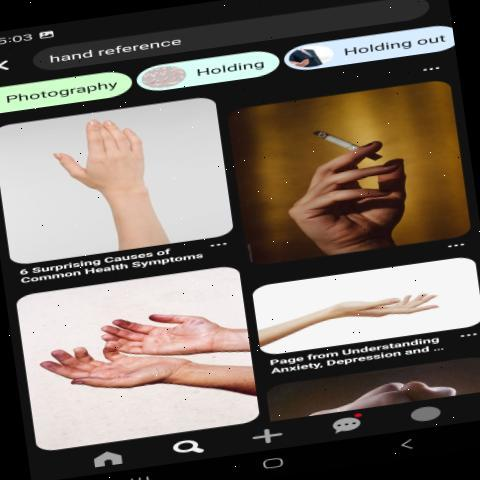Hands: (259, 133, 429, 246), (24, 344, 220, 420), (46, 114, 173, 220), (292, 266, 460, 330), (91, 296, 248, 362)
